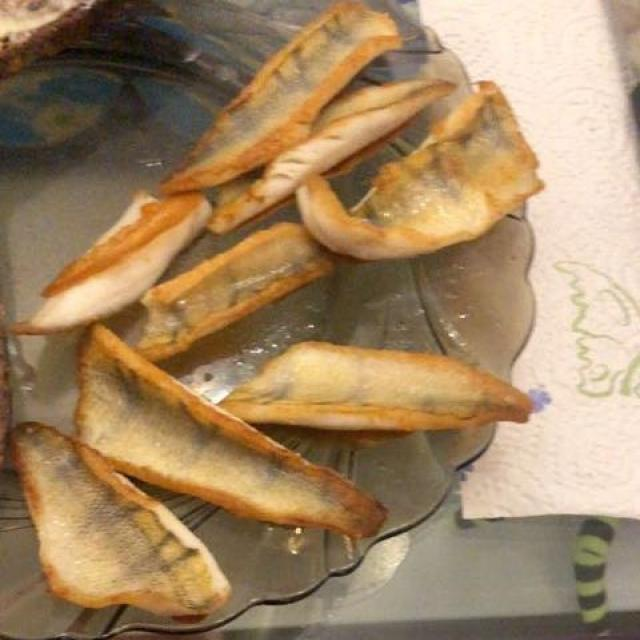fillets: (10, 4, 543, 625)
